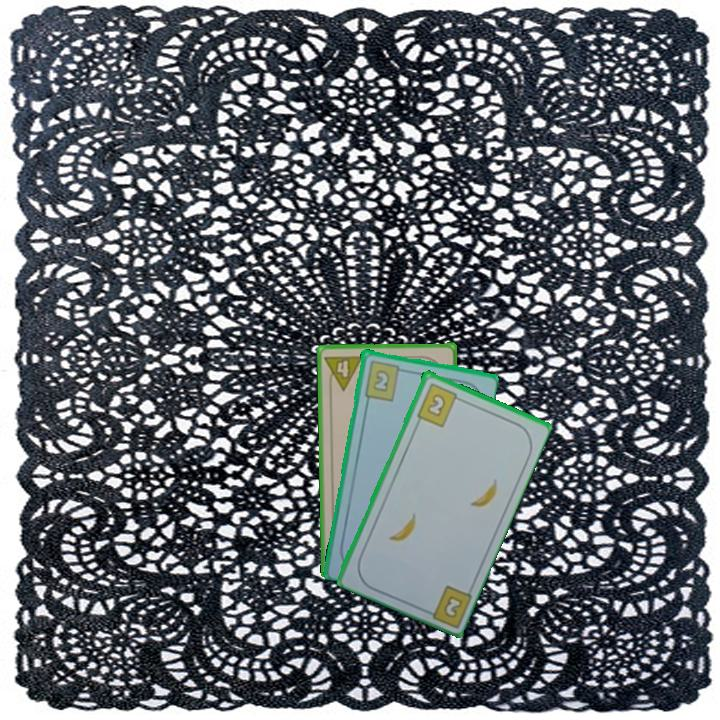2b: (413, 379, 465, 429), (419, 581, 474, 628), (361, 357, 408, 403)
4p: (321, 352, 366, 393)
